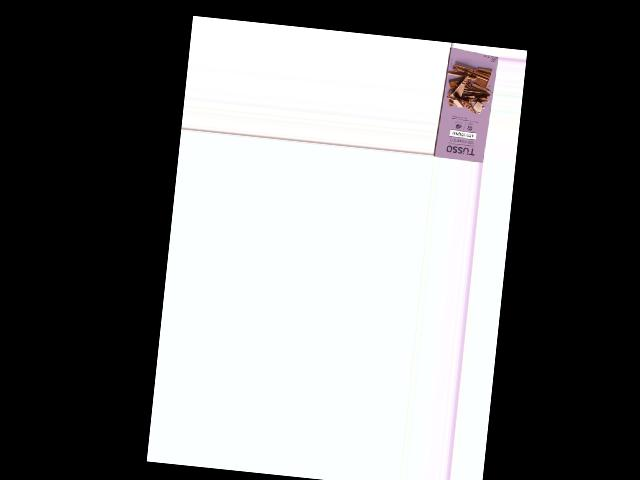chocolate: (436, 46, 496, 160)
